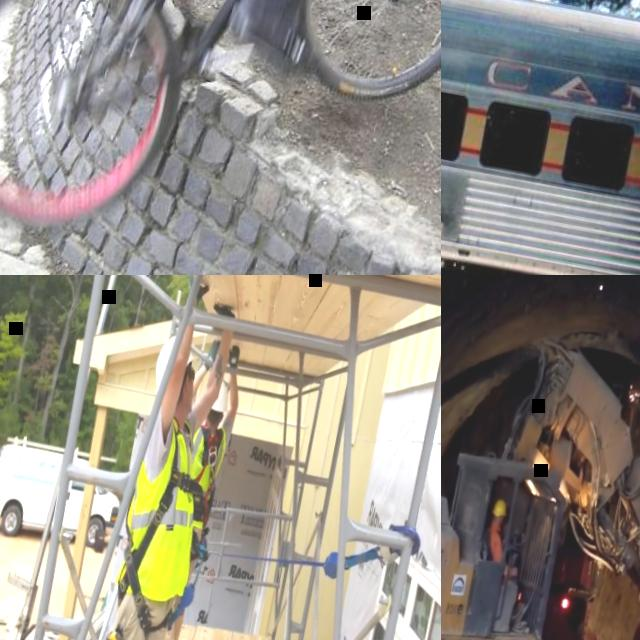Hardhat: (149, 333, 198, 403), (207, 380, 231, 414), (491, 499, 507, 519)
NO-Mask: (177, 372, 198, 415), (495, 519, 501, 528)
Person: (70, 275, 246, 640), (132, 335, 253, 640), (97, 0, 440, 88)
Safety Vest: (113, 411, 217, 606), (175, 418, 230, 531), (483, 524, 506, 563)
vehicle: (441, 294, 640, 640), (0, 432, 127, 556)
